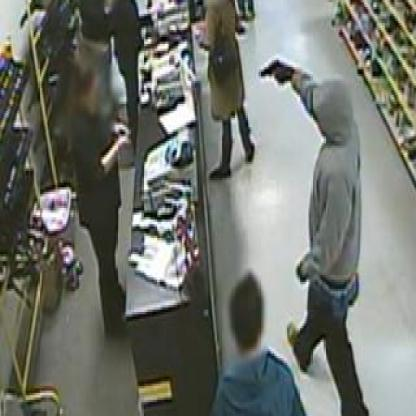gun: (258, 48, 292, 94)
